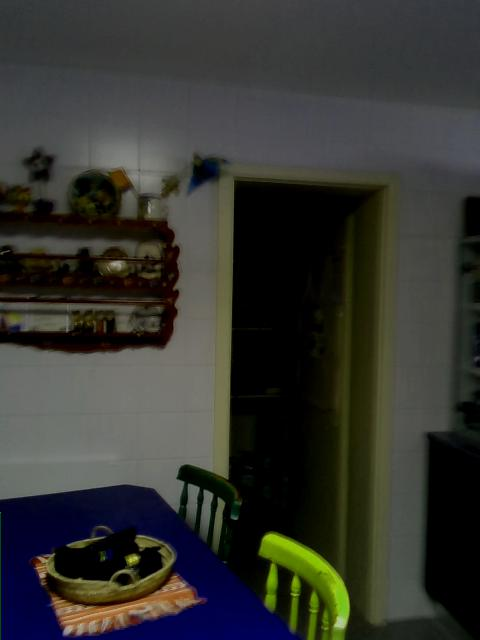open_door: (214, 162, 404, 633)
